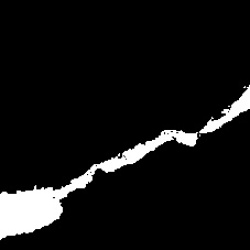crack: (4, 90, 248, 241)
